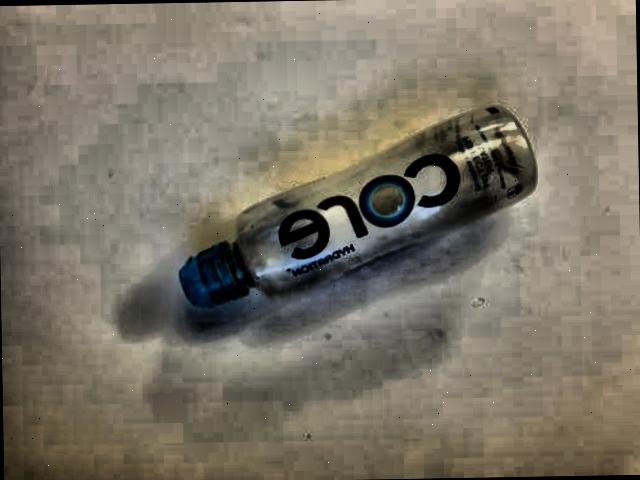Bottles: (151, 77, 541, 351)
